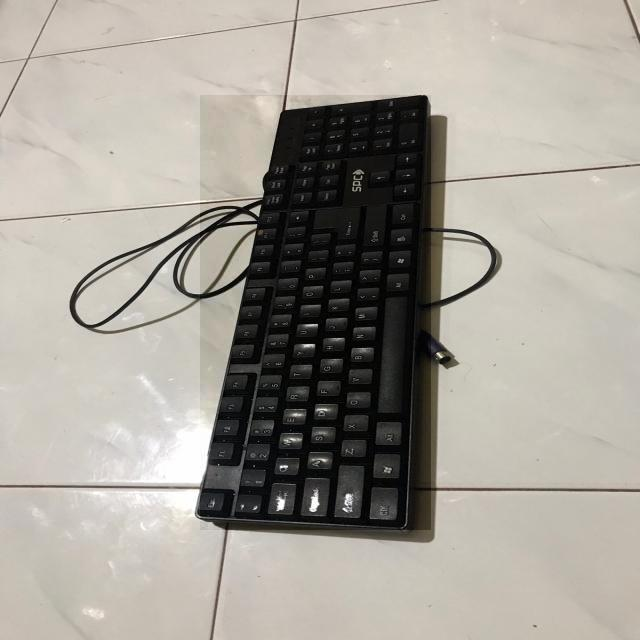-mouse-: (200, 95, 431, 530)
